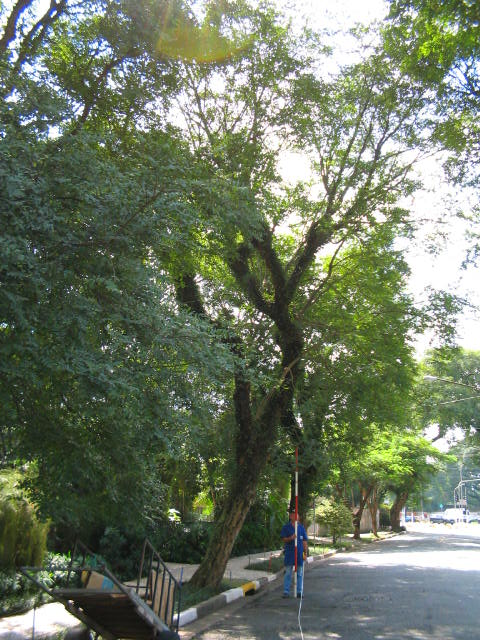crown: (44, 4, 479, 449)
stem: (181, 477, 265, 589)
stick: (287, 448, 304, 597)
tree: (42, 1, 480, 589)
